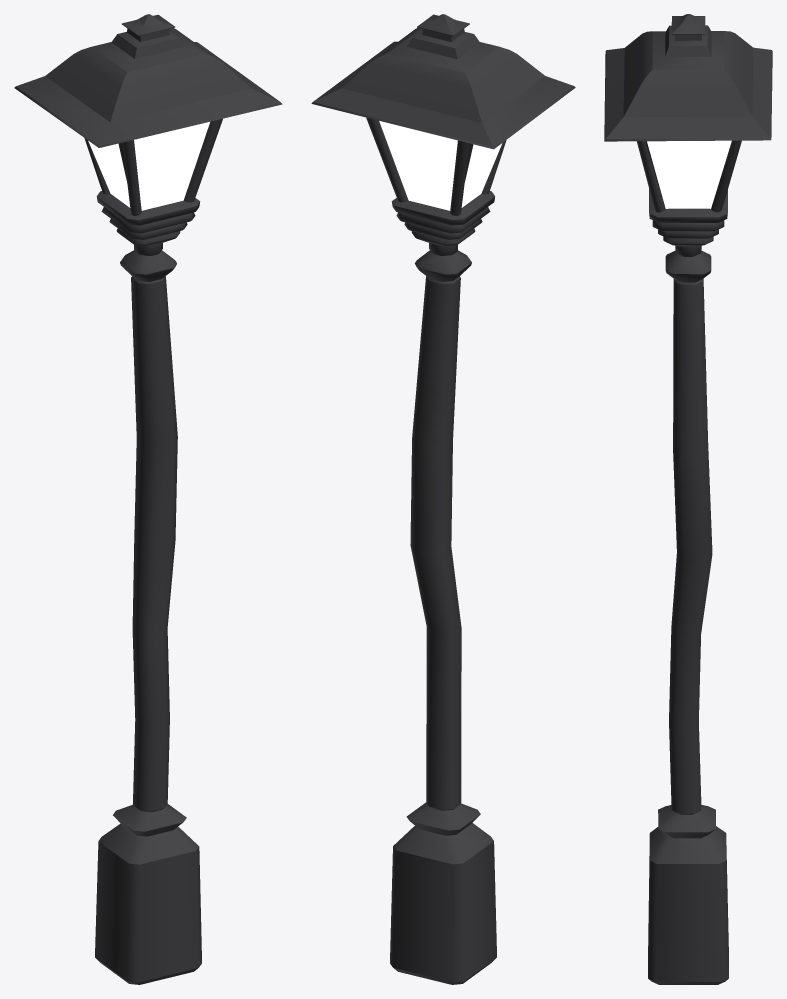
The model's file is lamp.fbx.
3 renders of one model, left to right at view 1: azimuth 30°, elevation 25°; view 2: azimuth 150°, elevation 25°; view 3: azimuth 270°, elevation 25°, orthographic.
Parts seen in each view (by area): view 1: Lamp_1; view 2: Lamp_1; view 3: Lamp_1.
Boxes of the visible parts, x1=… form: Lamp_1: x1=14, y1=14, x2=282, y2=984; Lamp_1: x1=311, y1=14, x2=575, y2=984; Lamp_1: x1=604, y1=14, x2=772, y2=984.
Size of the model in its own units: 60.46 by 297 by 47.62.
